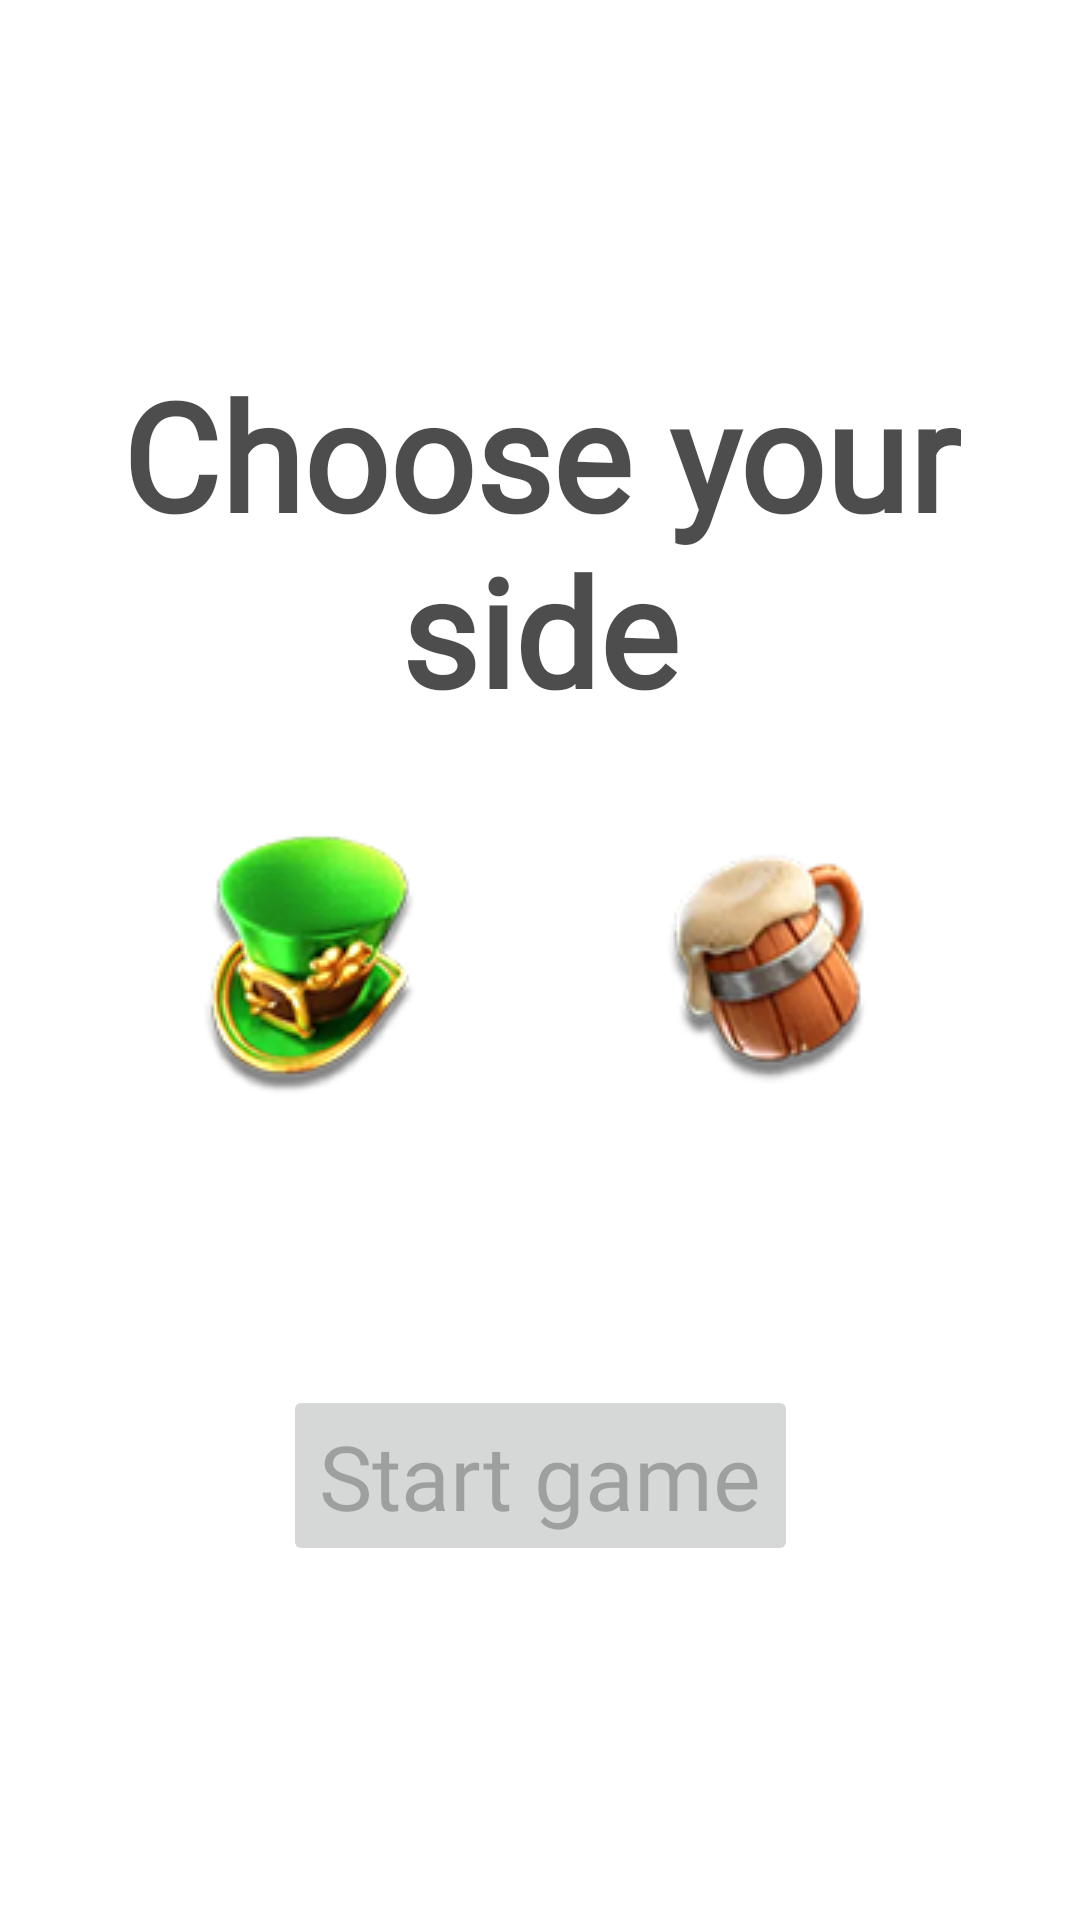

Icon click points for this 1080px x 1920px phone screenshot, format [x,y]:
beer: [768,968]
hat: [310,963]
